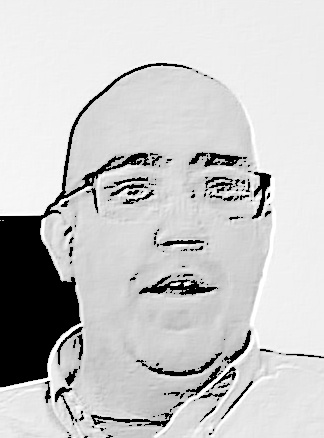nose_M_C: (151, 189, 212, 261)
